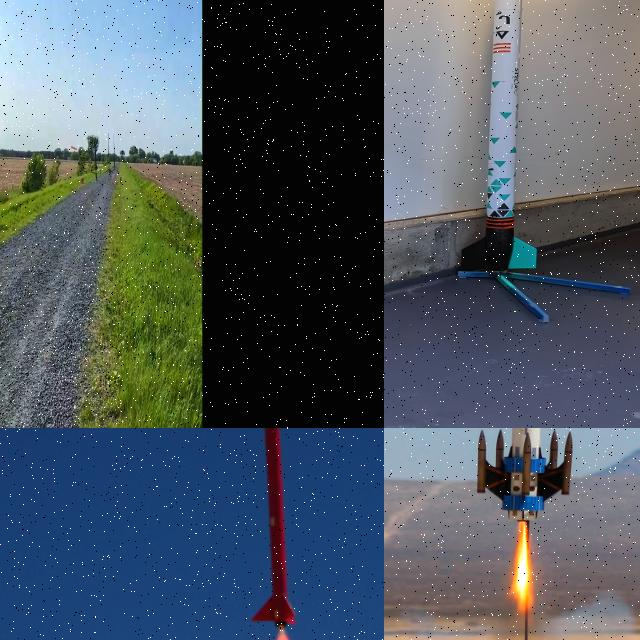Rocket: (460, 0, 537, 278), (474, 428, 575, 522), (251, 428, 298, 628), (95, 144, 97, 170)
